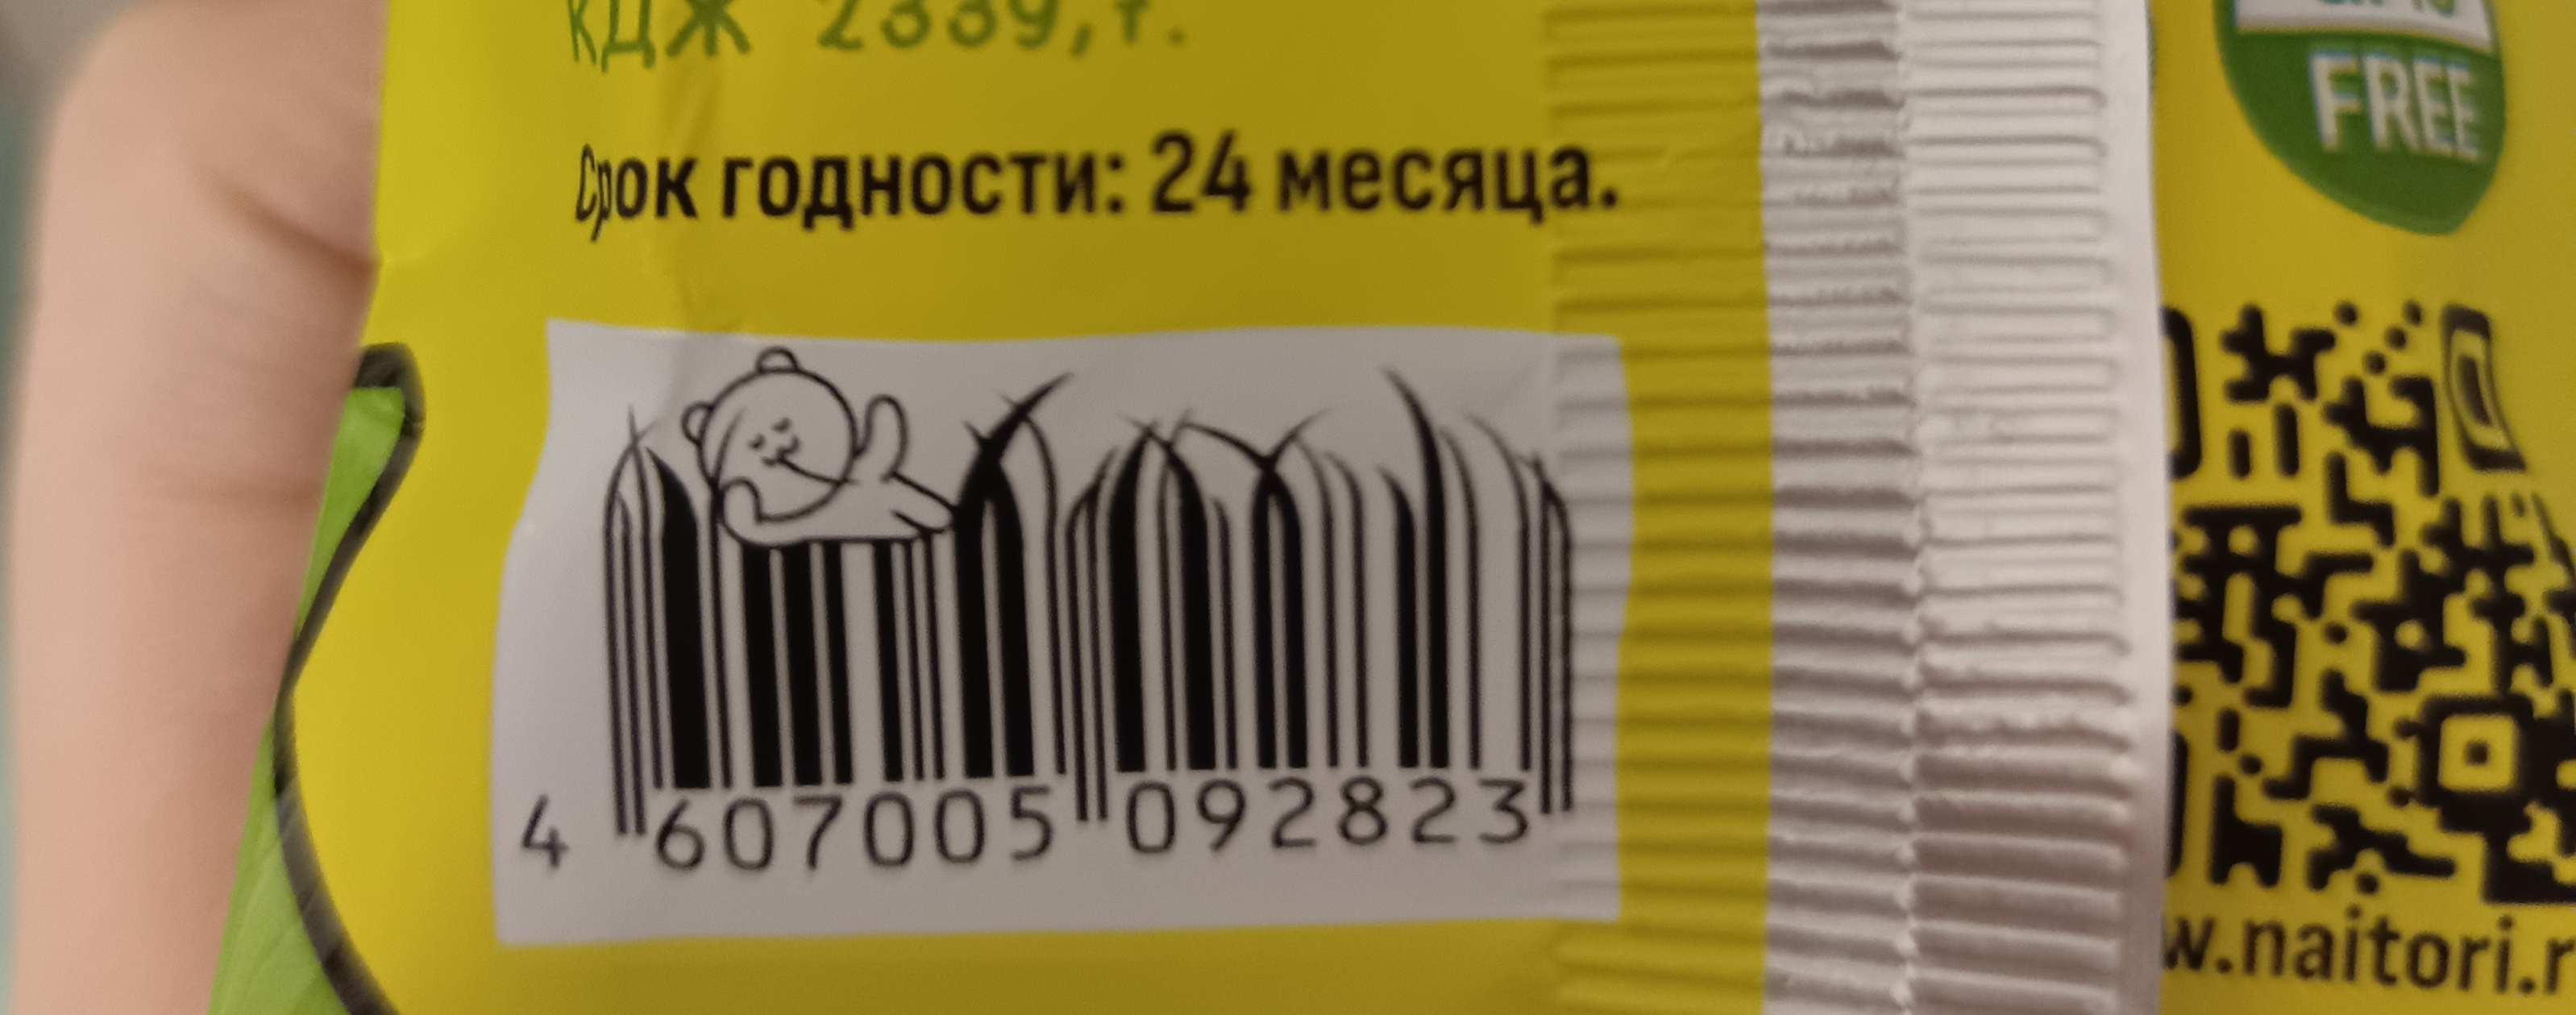1d: (600, 475, 1575, 793)
